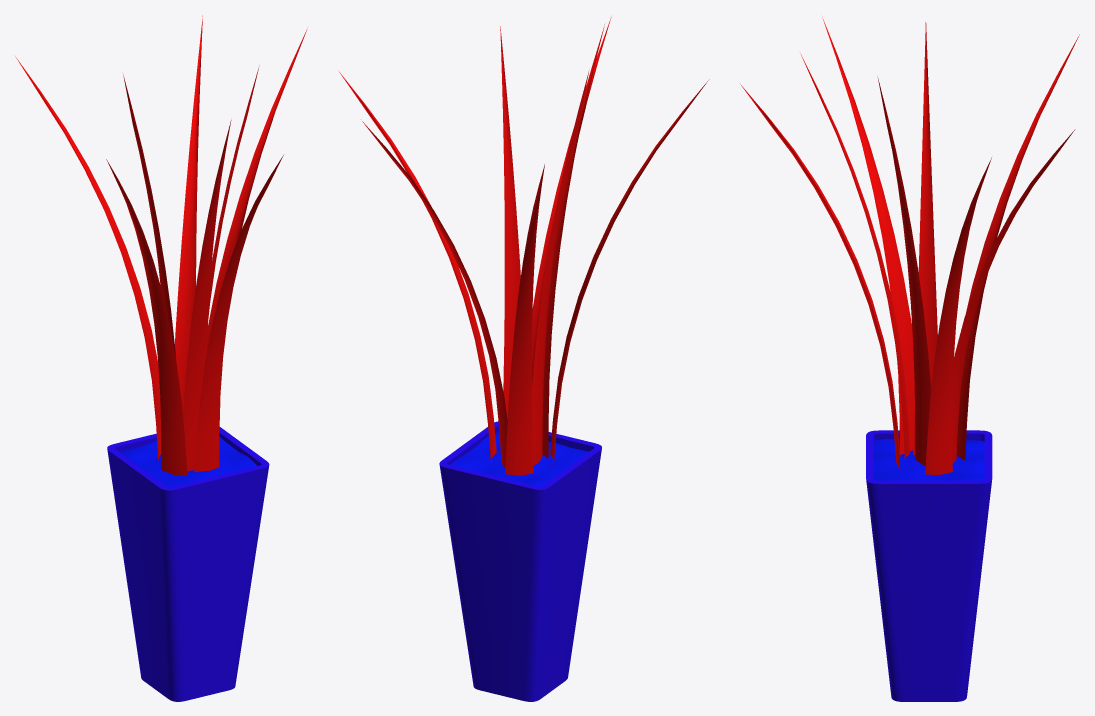
Rendered from Plant_1.fbx.
3 renders of one model, left to right at view 1: azimuth 30°, elevation 25°; view 2: azimuth 150°, elevation 25°; view 3: azimuth 270°, elevation 25°, orthographic.
Visible parts, largest first — view 1: Plant_1; view 2: Plant_1; view 3: Plant_1.
Boxes of the visible parts, x1=… form: Plant_1: x1=15, y1=15, x2=307, y2=701; Plant_1: x1=339, y1=17, x2=709, y2=701; Plant_1: x1=741, y1=18, x2=1079, y2=701.
Bounding box in the file's own units: 114 × 238 × 116.
